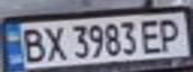3: (66, 21, 90, 60), (118, 18, 142, 56)
8: (103, 19, 124, 56)
9: (84, 20, 106, 58)
B: (15, 25, 48, 64)
E: (136, 16, 166, 55)
P: (154, 16, 187, 53)
X: (39, 24, 69, 62)
